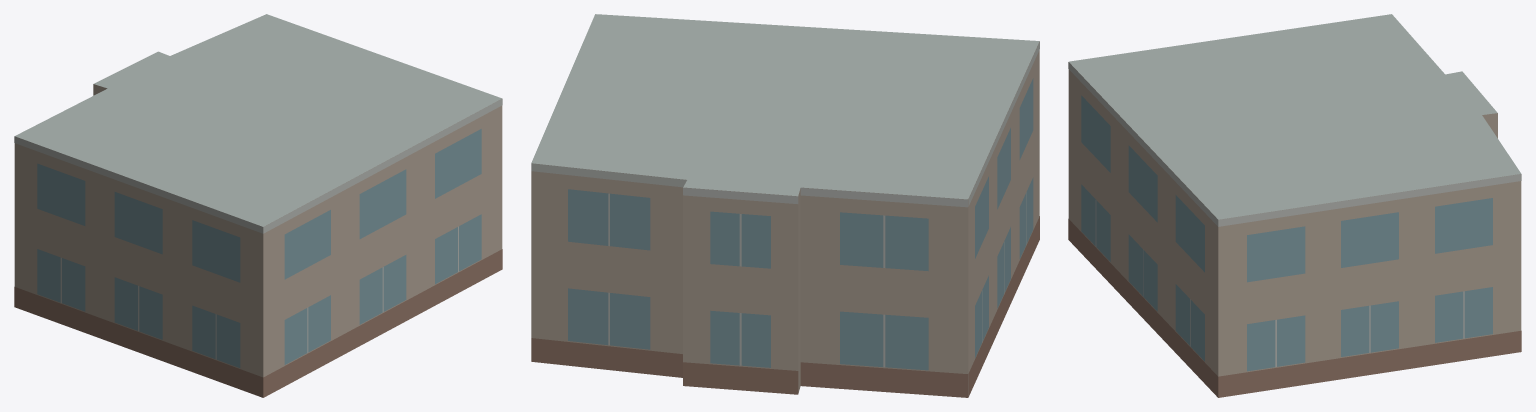
The model's file is survey-upis-32905548.glb.
3 renders of one model, left to right at view 1: azimuth 30°, elevation 25°; view 2: azimuth 150°, elevation 25°; view 3: azimuth 270°, elevation 25°, orthographic. The views are drawn at different scales.
Parts seen in each view (by area): view 1: survey-upis-32905548.tmp; view 2: survey-upis-32905548.tmp; view 3: survey-upis-32905548.tmp.
Part boxes in pixels (x1,y1,x2,y2): survey-upis-32905548.tmp: (14, 14, 502, 397); survey-upis-32905548.tmp: (531, 14, 1039, 397); survey-upis-32905548.tmp: (1068, 14, 1521, 397).
Bounding box in the file's own units: 15.12 × 6.1 × 14.07.
